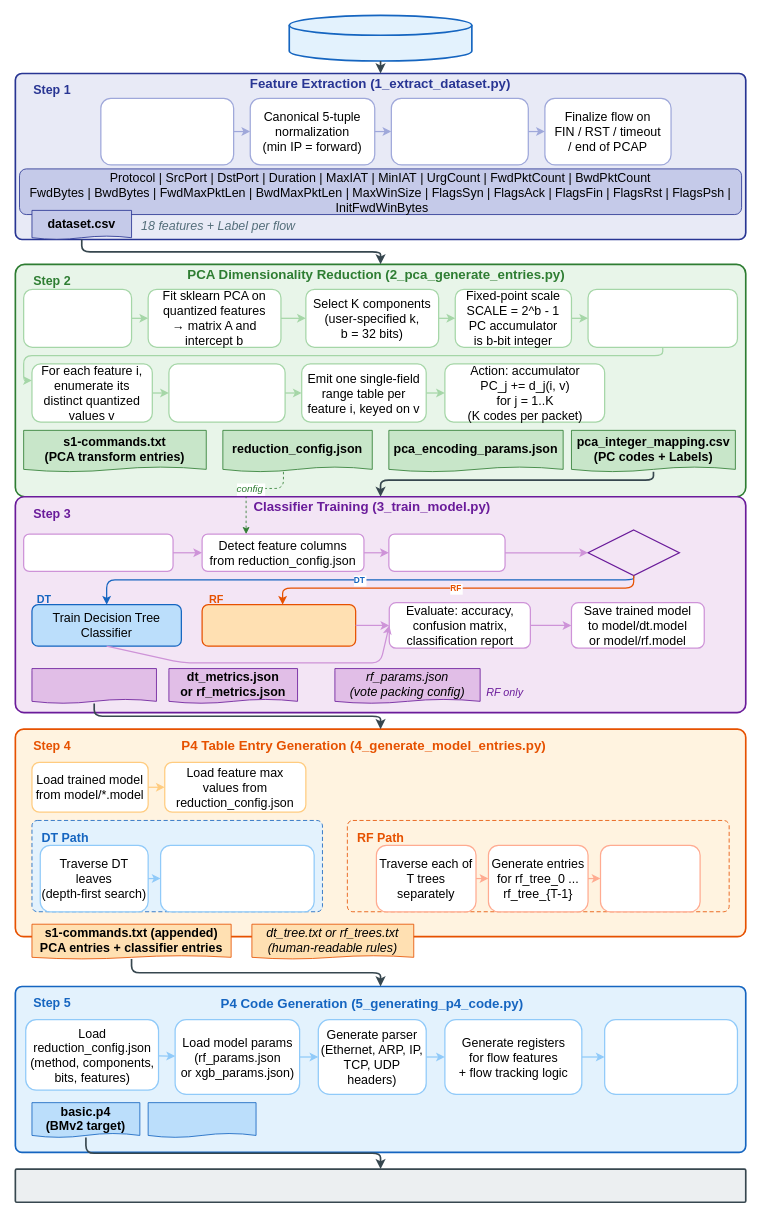
Some shapes in this 760 by 1217 pixel diagram are drawn without their labels. Here are the shapes that lost their labels. From the top down, the centre of each, then its label:
[380,37]: Labeled PCAP / PCAPNG Files
[167,131]: Parse packets via pyshark (Ethernet, ARP, IP, TCP/UDP)
[459,131]: Accumulate per-flow state: 18 features (counts, max, timestamps)
[77,318]: Load dataset.csv Clean NaN / Inf
[662,318]: Expand A row by input feature i (additive form): PC_j = Σ_i A_ji⋅x_i + b_j
[226,392]: Precompute scaled contributions: d_j(i, v) = A_ji⋅v⋅SCALE
[98,552]: Load pca_integer_mapping.csv
[446,552]: Encode class labels to integer targets
[633,552]: Model type?
[278,625]: Train Random Forest Classifier
[93,685]: model/dt.model or model/rf.model
[237,878]: Generate range match entries for ml_code table (1 entry per leaf)
[650,878]: Generate rf_vote_classify entries (2^(TxV))
[671,1057]: Generate PCA tables + classifier tables + digest + deparser
[201,1120]: p4sec_tofino.p4 (Tofino target)
[380,1185]: Runtime Controller (6_controller.py)
